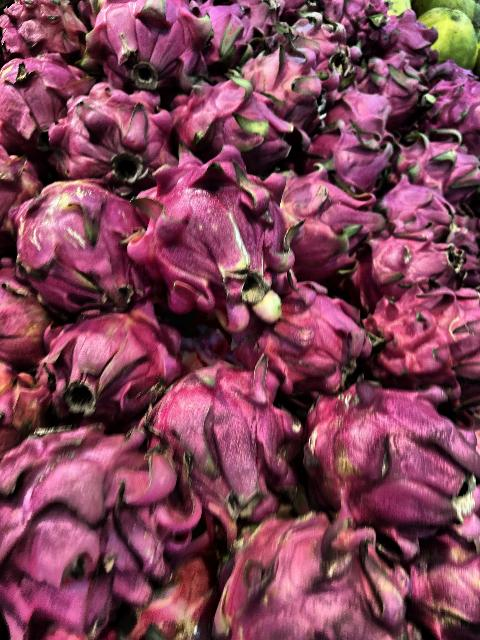buah-naga-matang: (0, 425, 194, 639), (127, 150, 291, 322), (306, 382, 478, 538), (140, 368, 304, 524), (223, 512, 419, 640), (0, 165, 142, 321), (266, 158, 382, 278), (36, 312, 182, 402), (48, 84, 176, 186), (234, 290, 364, 390), (234, 290, 364, 390), (0, 39, 98, 169), (172, 72, 296, 166), (362, 296, 468, 404), (82, 1, 202, 88), (346, 227, 462, 303), (0, 0, 98, 70), (314, 115, 398, 193), (242, 50, 330, 122), (199, 0, 281, 66), (373, 184, 461, 242)
